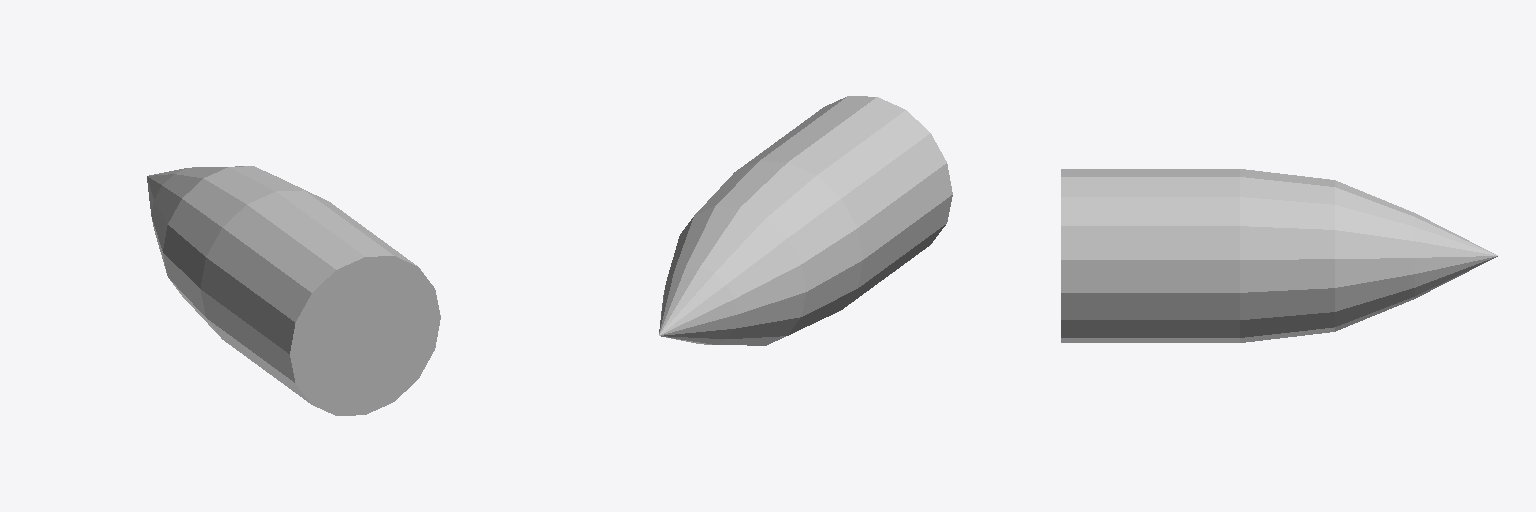
Rendered from Bullet_Rifle.obj.
The picture shows the model from 3 angles: view 1: azimuth 30°, elevation 25°; view 2: azimuth 150°, elevation 25°; view 3: azimuth 270°, elevation 25°; orthographic projection.
Visible parts, largest first — view 1: Bullet_Rifle_0; view 2: Bullet_Rifle_0; view 3: Bullet_Rifle_0.
Part boxes in pixels (left/top/right/bottom): Bullet_Rifle_0: left=147, top=166, right=440, bottom=415; Bullet_Rifle_0: left=659, top=96, right=952, bottom=345; Bullet_Rifle_0: left=1061, top=169, right=1497, bottom=342.
Bounding box in the file's own units: 0.399 × 0.399 × 1.